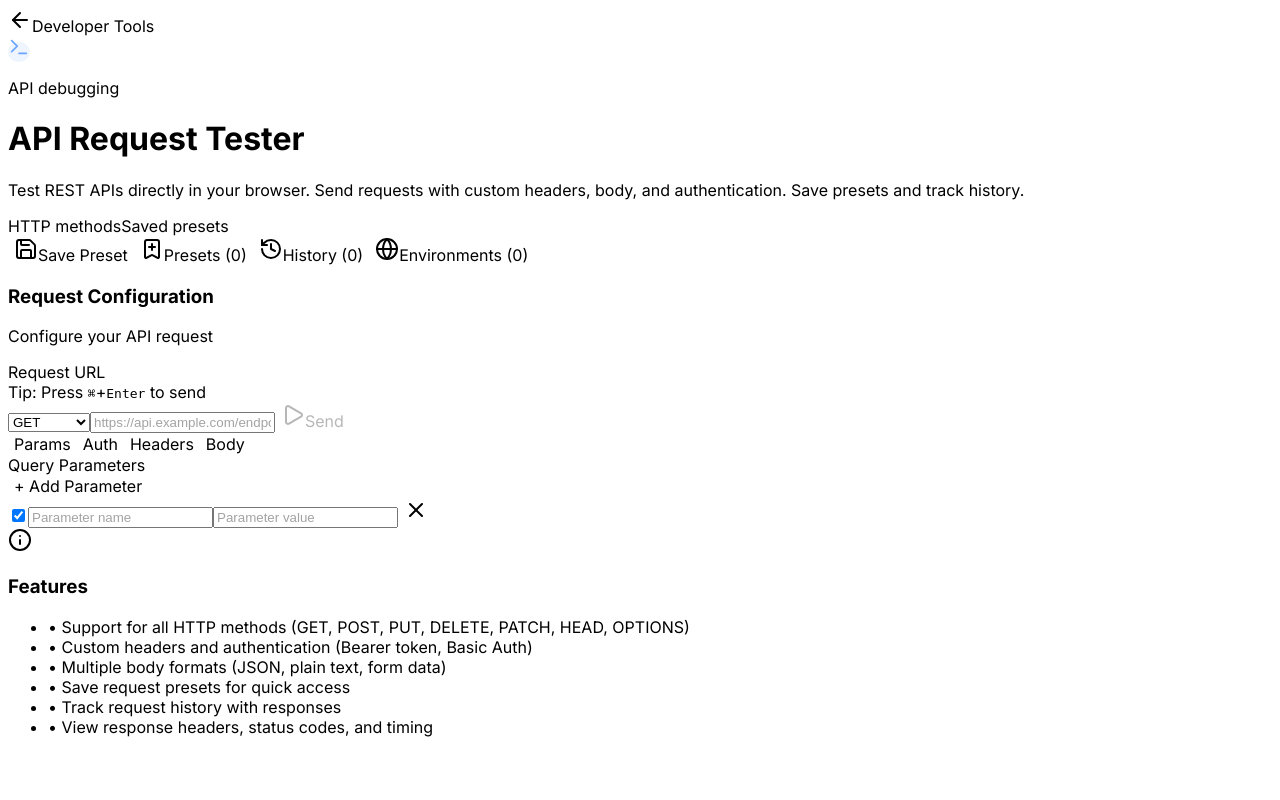
Test: API Tester Page - Component Tests › should display add header button
Click on Headers tab to access headers section
Click the button "Headers": {"x": 162, "y": 444} [124,433,200,455]
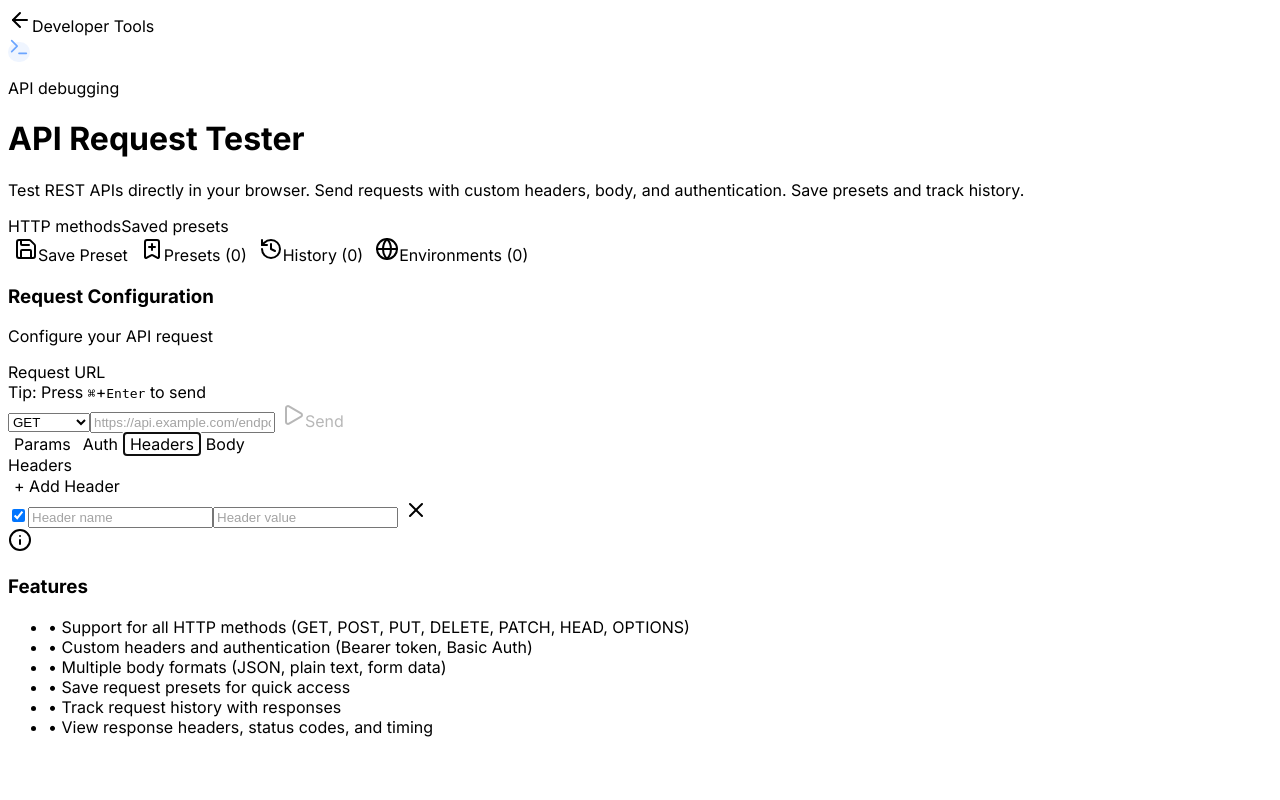
Expected: the button "+ Add Header" is shown, [8,475,126,497]
